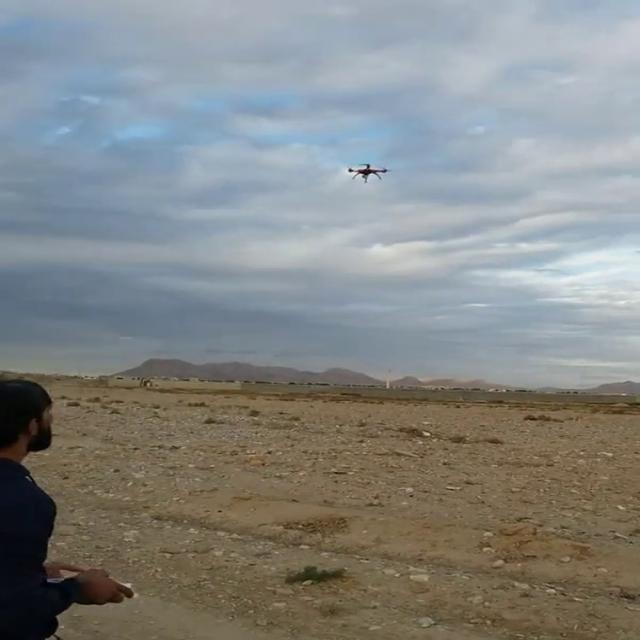drone: (344, 158, 392, 183)
